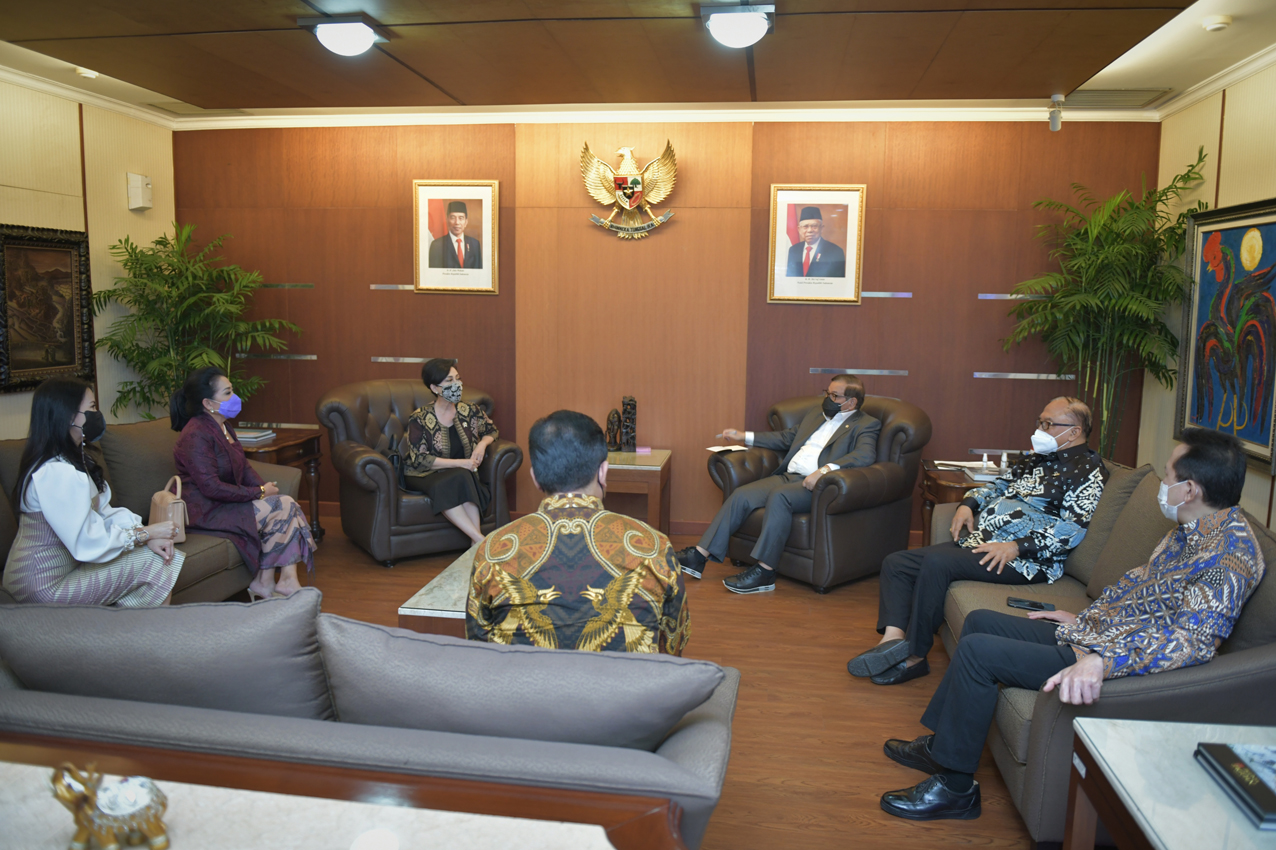sova: (2, 599, 754, 841)
tanaman: (1031, 196, 1185, 425), (96, 232, 282, 417)
